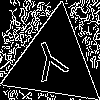Y: (29, 37, 74, 91)
